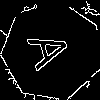A: (27, 25, 81, 72)
